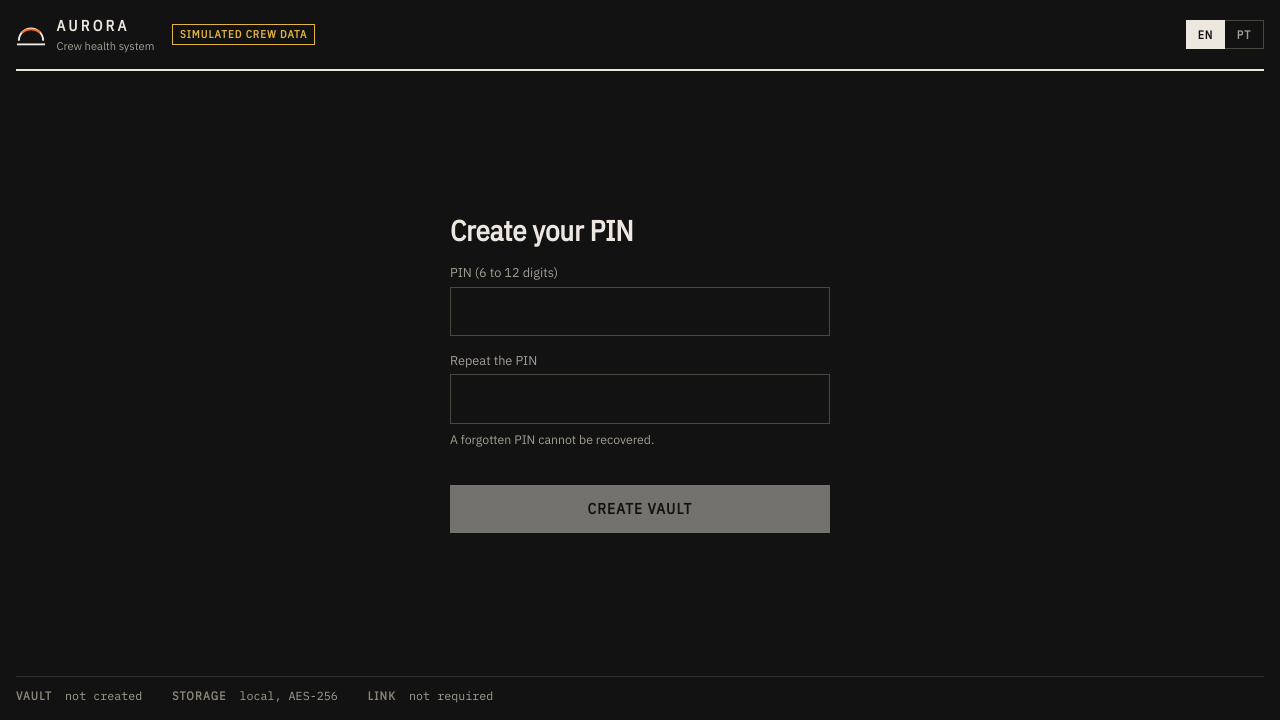
Test: first use and PIN › rejects weak and mismatched PINs before creating the vault
The image size is (1280, 720).
Expected: the heading "Create your PIN" is shown, [450,212,634,249]
Type "123456" into the password field labelled "PIN (6 to 12 digits)".
click(640, 311); type("123456")  # box [450,286,830,336]
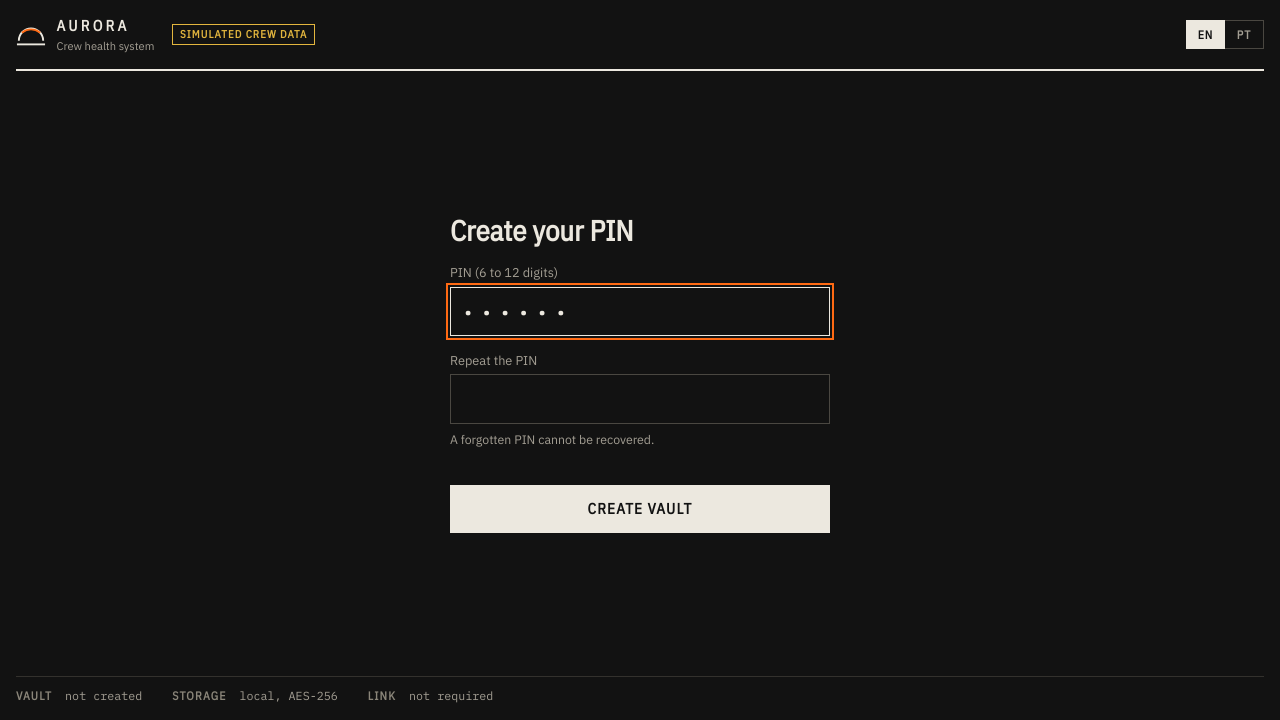
Type "123456" into the password field labelled "Repeat the PIN".
click(640, 399); type("123456")  # box [450,374,830,424]
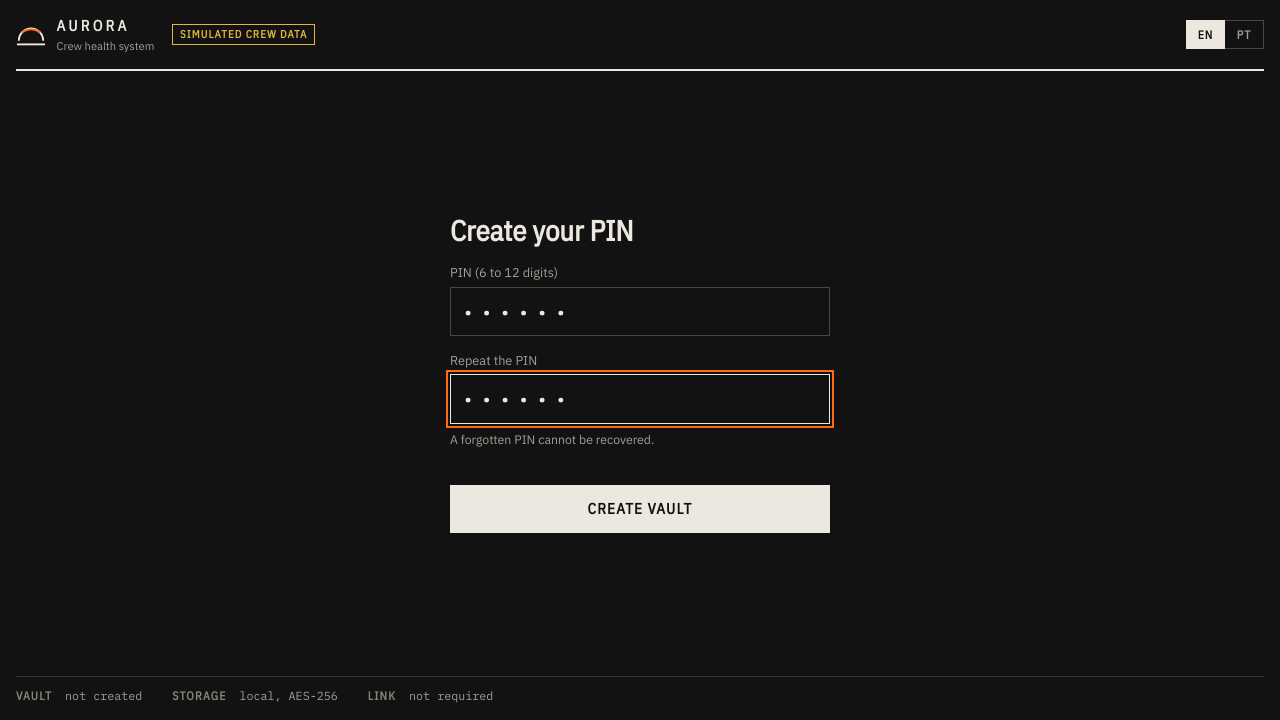
Click the button "Create vault".
click(640, 509)  # box [450,485,830,533]
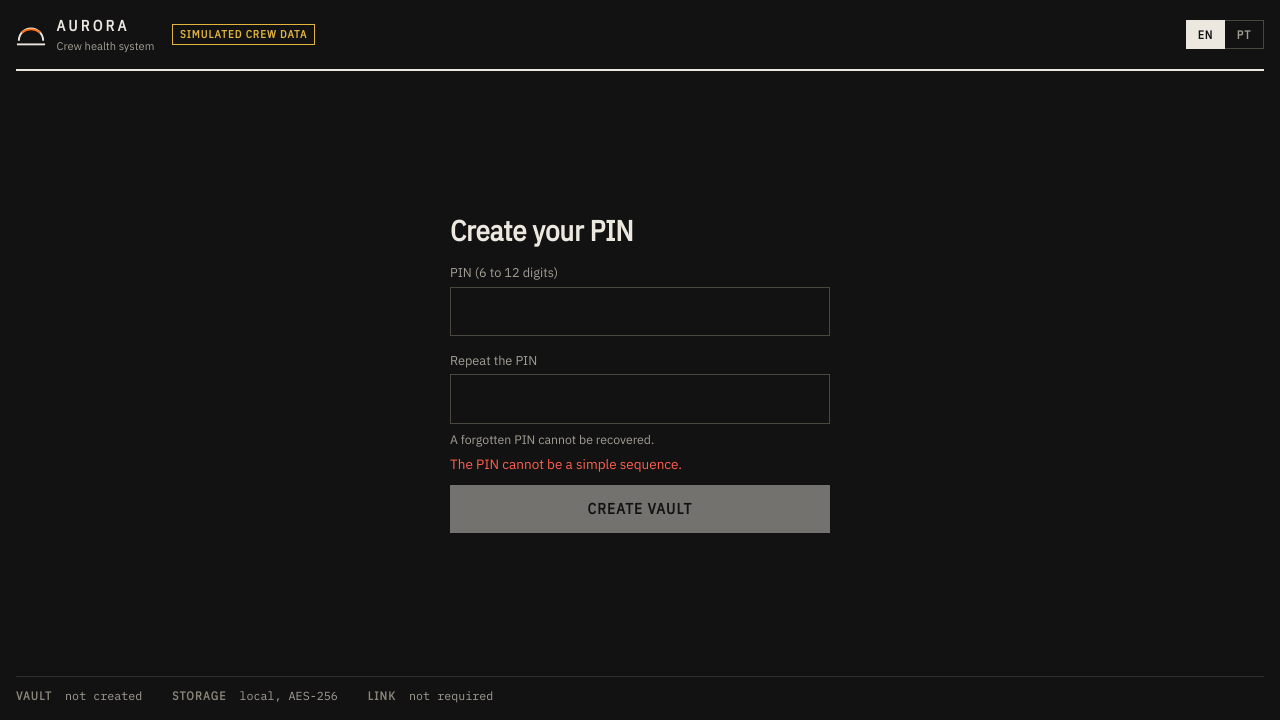
Type "480137" into the password field labelled "PIN (6 to 12 digits)".
click(640, 311); type("480137")  # box [450,286,830,336]
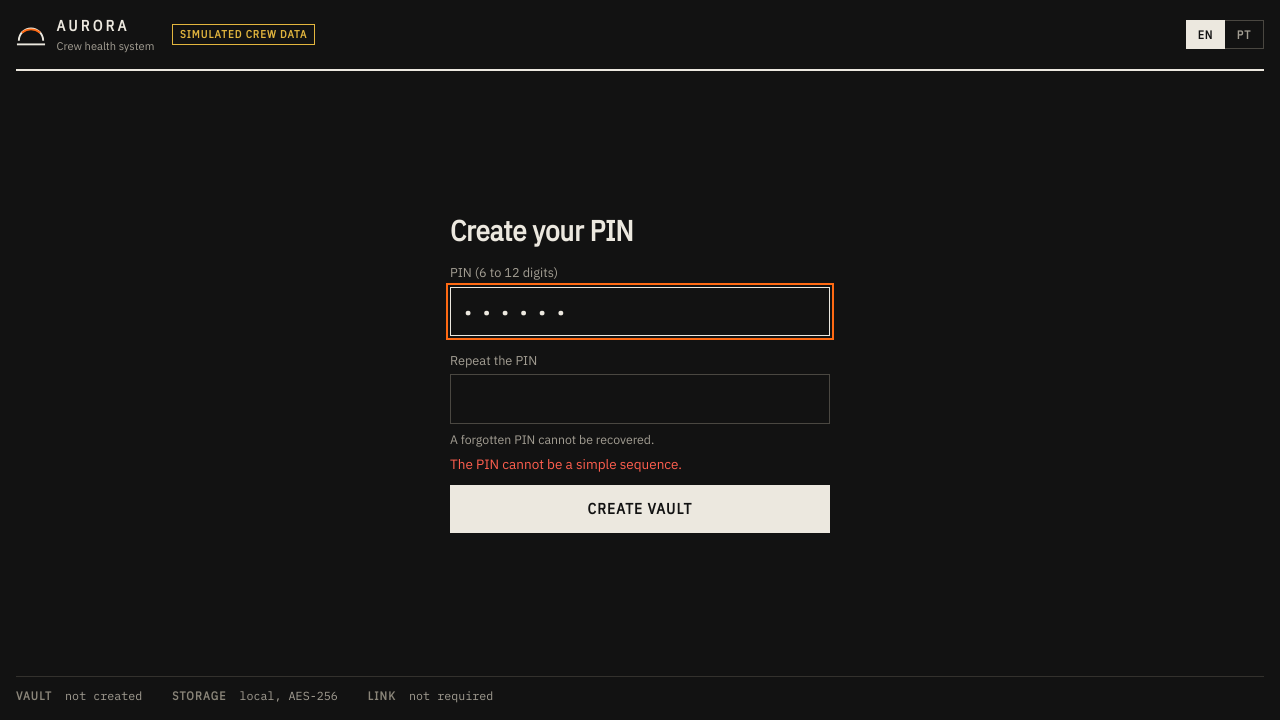
Type "480138" into the password field labelled "Repeat the PIN".
click(640, 399); type("480138")  # box [450,374,830,424]
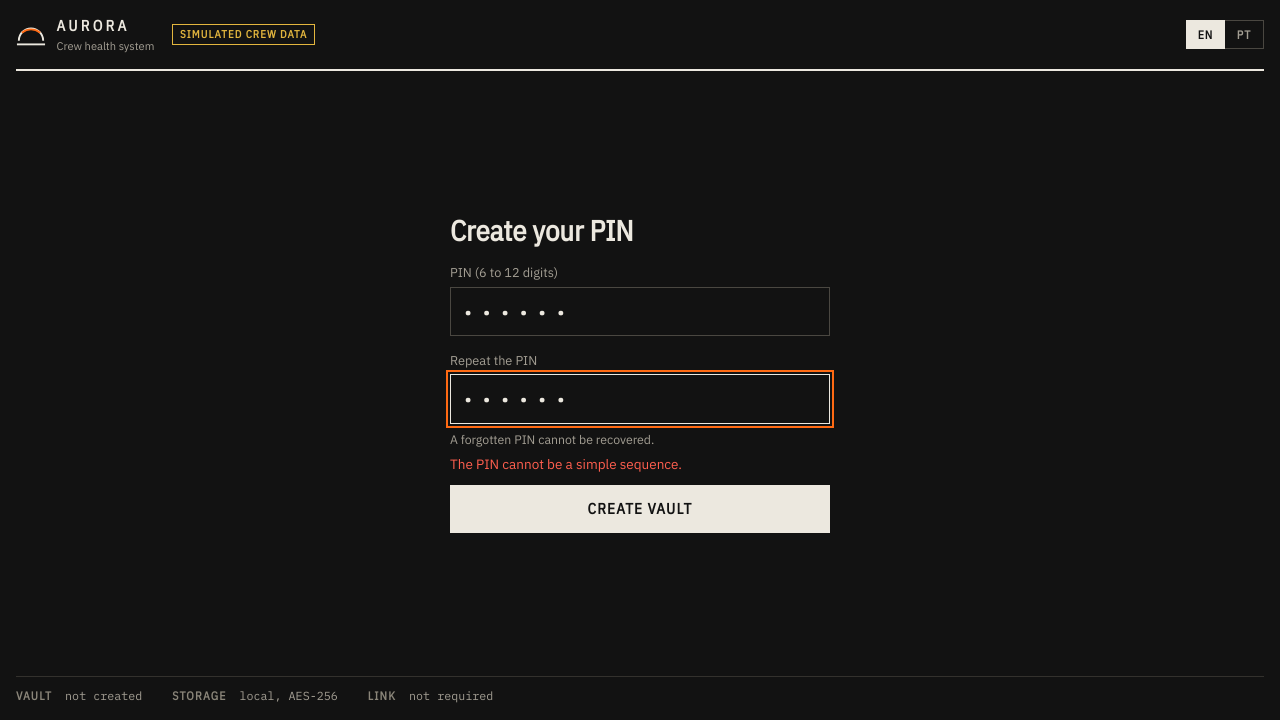
Click the button "Create vault".
click(640, 509)  # box [450,485,830,533]
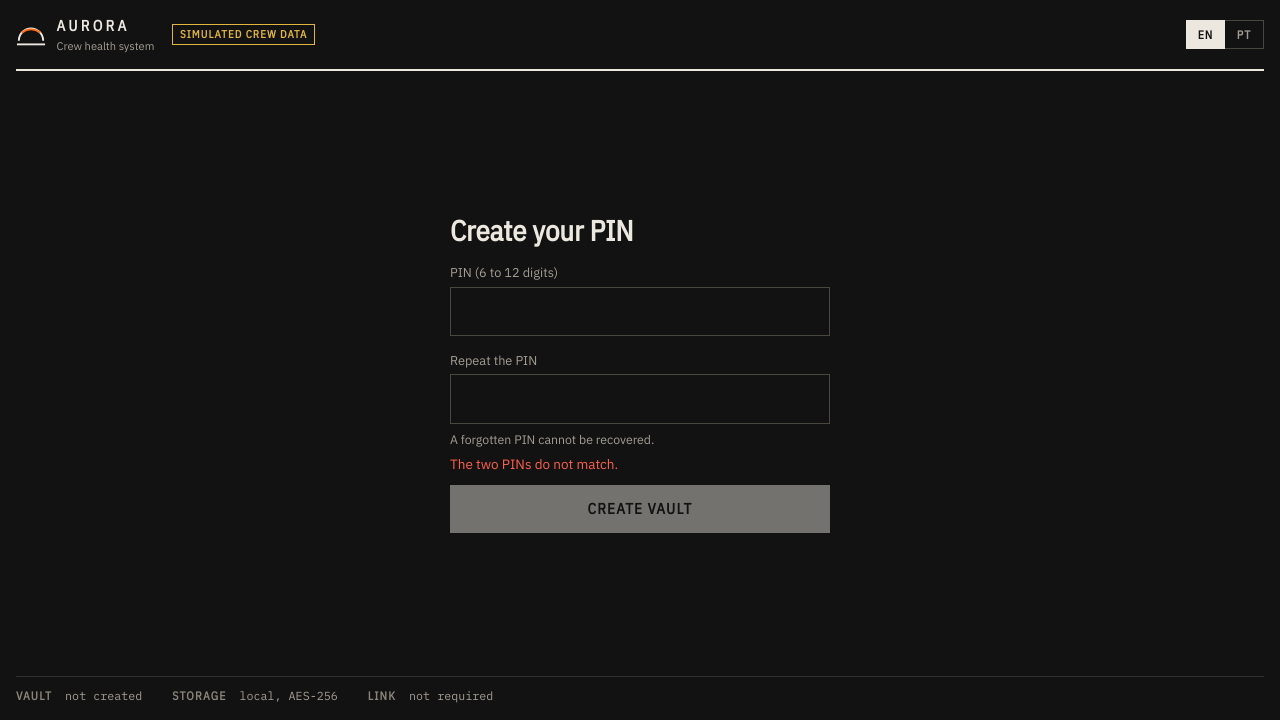
Expected: the text "The two PINs do not match." is shown, [450,455,618,473]
